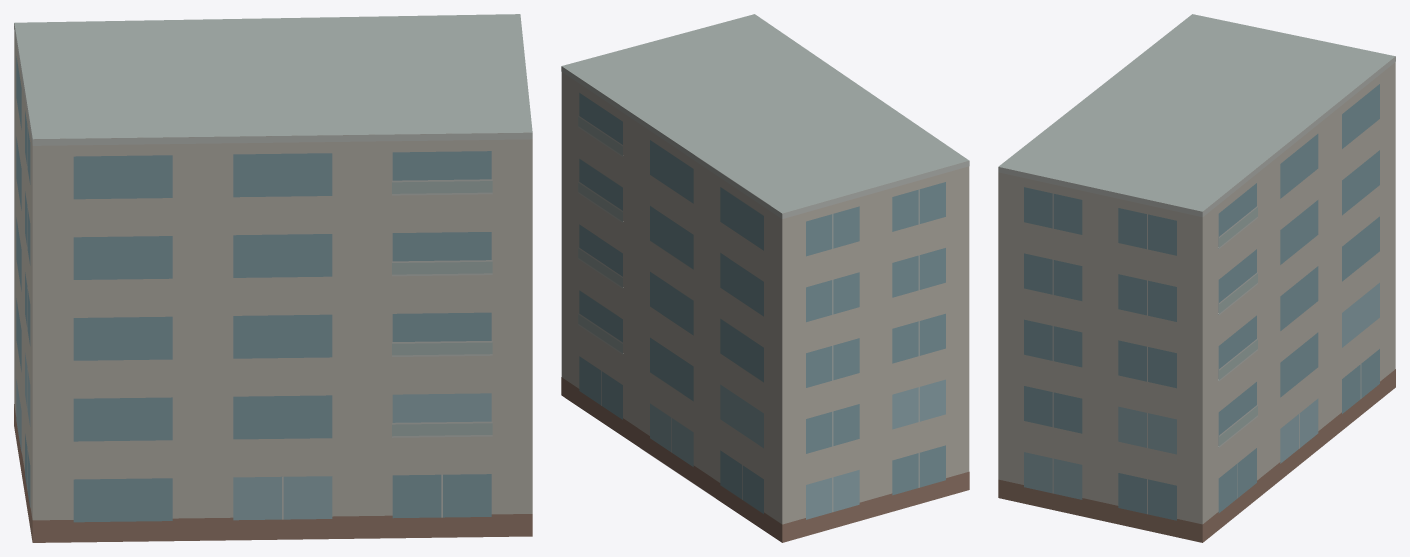
The model's file is survey-upis-32680501.glb.
3 renders of one model, left to right at view 1: azimuth 30°, elevation 25°; view 2: azimuth 150°, elevation 25°; view 3: azimuth 270°, elevation 25°, orthographic. The views are drawn at different scales.
Visible parts, largest first — view 1: survey-upis-32680501.tmp; view 2: survey-upis-32680501.tmp; view 3: survey-upis-32680501.tmp.
Boxes of the visible parts, x1,y1,x2,y2 form: survey-upis-32680501.tmp: (14, 14, 532, 542); survey-upis-32680501.tmp: (561, 14, 969, 542); survey-upis-32680501.tmp: (998, 14, 1395, 542).
Bounding box in the file's own units: 18.58 × 14.5 × 15.78.
